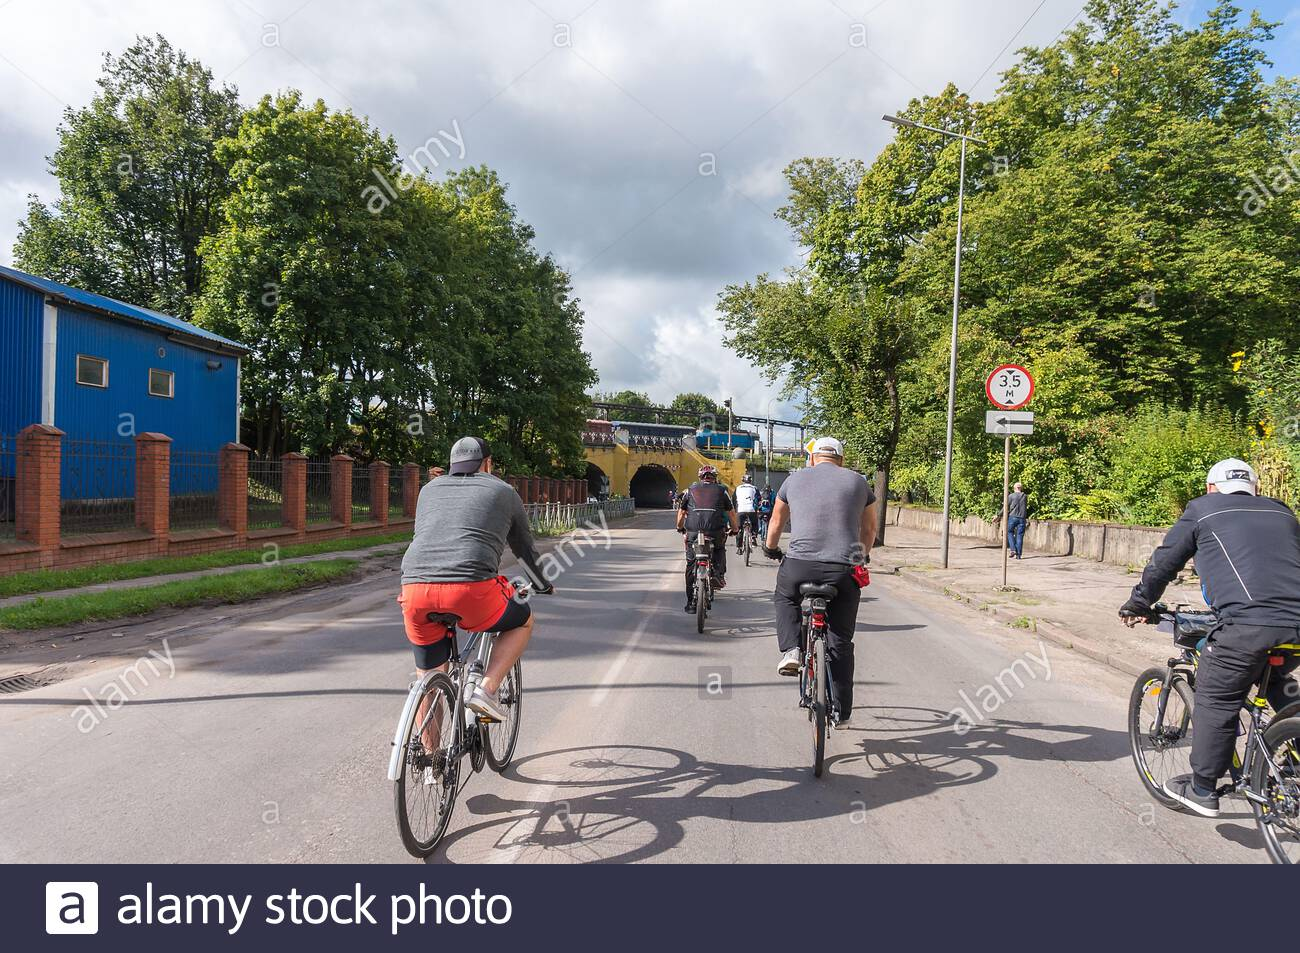commuter: (1117, 456, 1300, 864), (384, 431, 551, 869), (759, 433, 887, 779), (670, 464, 739, 637)
